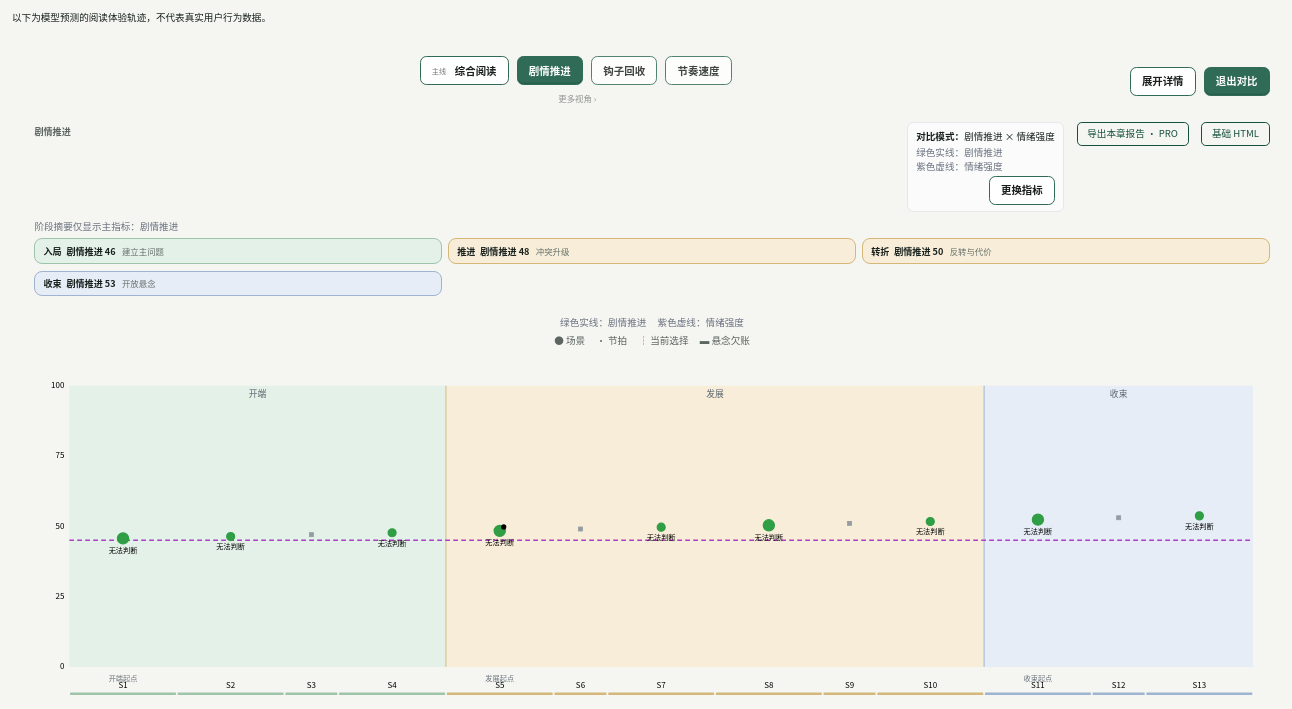
Test: Lens single-click switching (no snap-back) › clears compare when entering hook_payoff in one click
The width and height of the screenshot is (1292, 709).
Expected: the message "对比模式：剧情推进 × 情绪强度 绿色实线：剧情推进 紫色虚线：情绪强度 更换指标" is shown, x1=907 y1=122 x2=1064 y2=212
Click the radio button with test id "journey-lens-hook_payoff" at (624, 71), box x1=591 y1=56 x2=657 y2=85
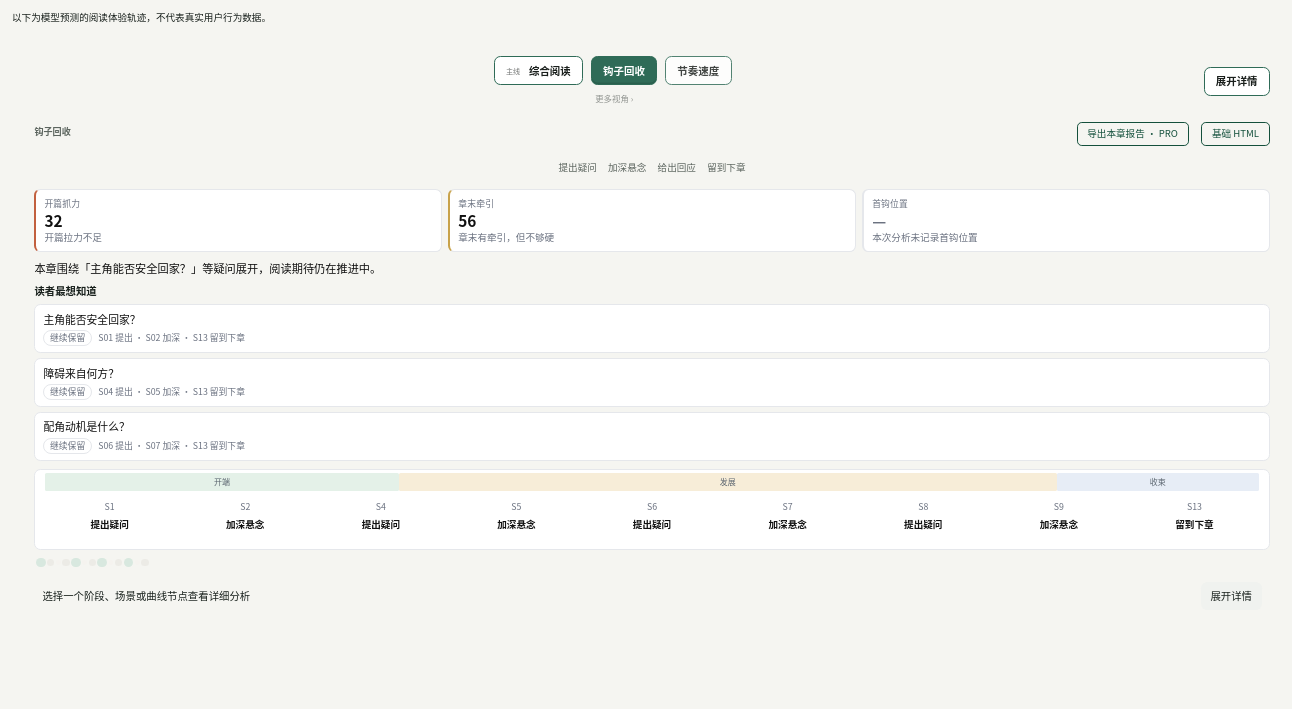
Expected: the message with test id "journey-comparison-toolbar" is gone
